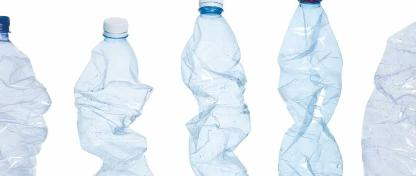Plastic Bottle: (266, 1, 352, 176), (176, 1, 257, 176), (71, 17, 157, 176), (1, 10, 53, 176)
